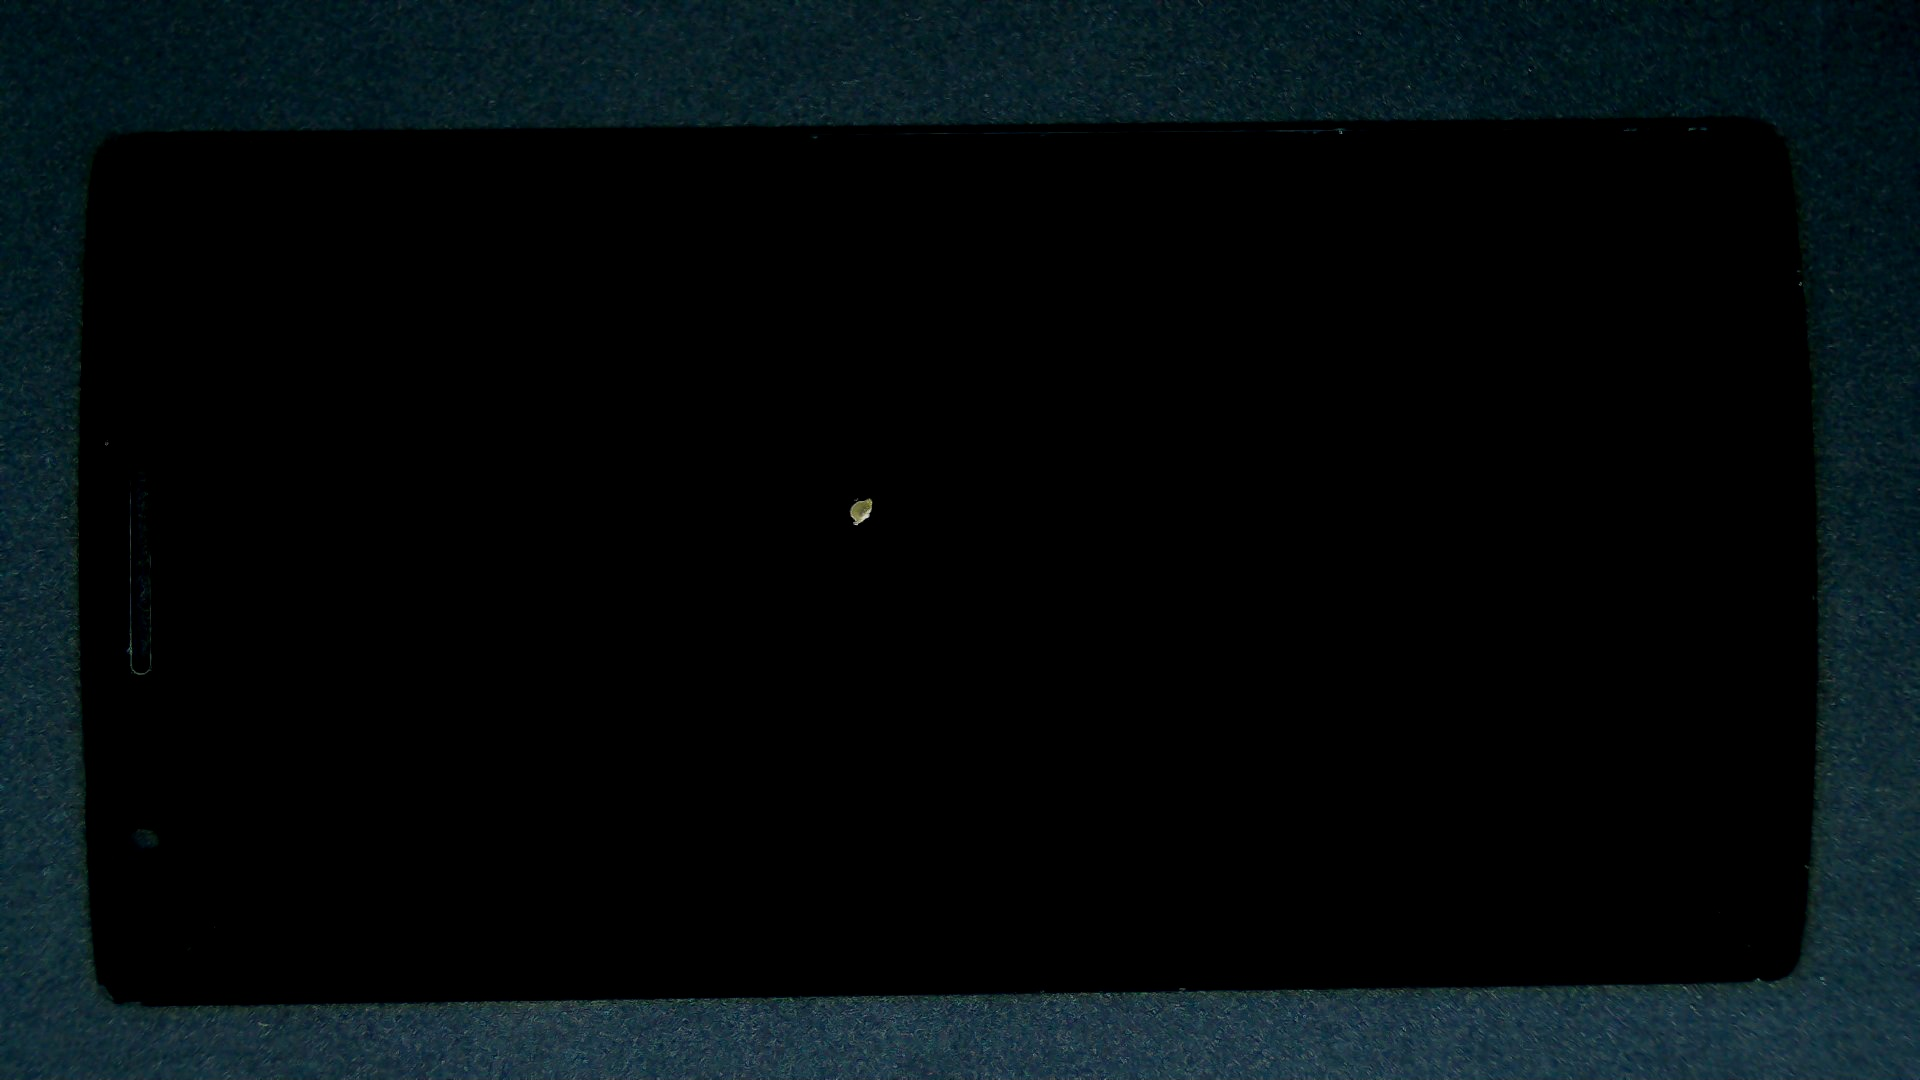oil: (435, 247, 1302, 744)
